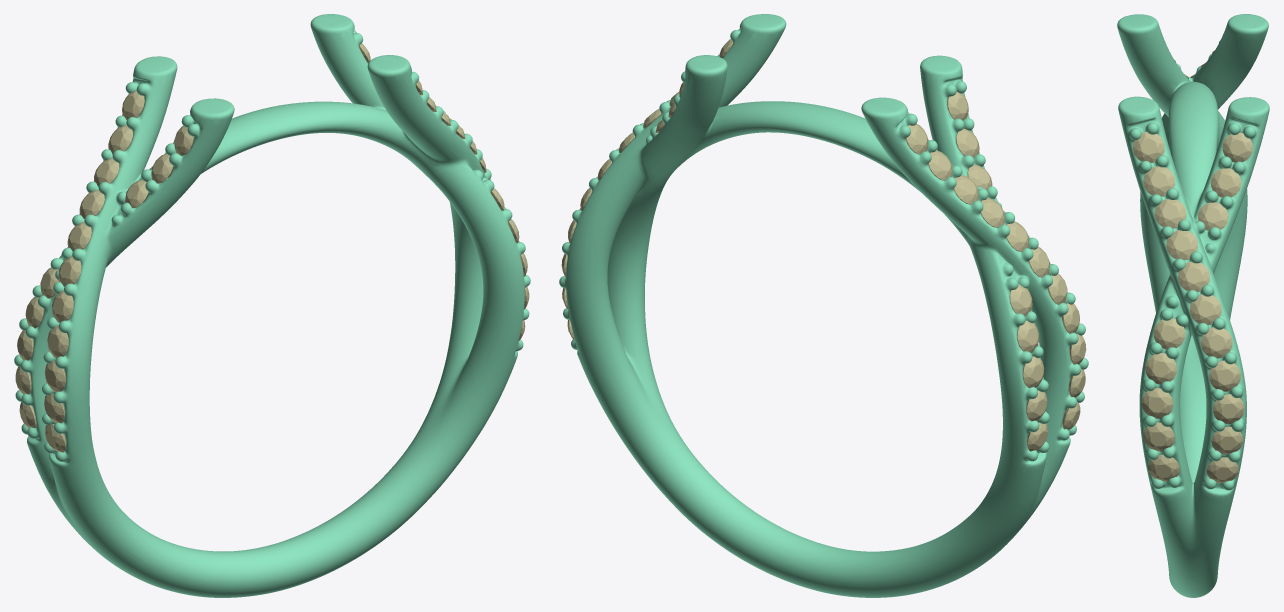
The picture shows the model from 3 angles, left to right: view 1: azimuth 30°, elevation 25°; view 2: azimuth 150°, elevation 25°; view 3: azimuth 270°, elevation 25°; orthographic projection. The views are drawn at different scales.
Visible parts, largest first — view 1: Metal02; view 2: Metal02; view 3: Metal02, Diamond_Gem.003, Diamond_Gem.031, Diamond_Gem.032, Diamond_Gem.008, Diamond_Gem.005, Diamond_Gem.009, Diamond_Gem.033, Diamond_Gem.002, Diamond_Gem.004, Diamond_Gem.006, Diamond_Gem.010 (+8 smaller).
Part boxes in pixels (bbox=[...]): Metal02: bbox=[14, 14, 530, 597]; Metal02: bbox=[559, 14, 1088, 597]; Metal02: bbox=[1117, 14, 1269, 597]; Diamond_Gem.003: bbox=[1200, 327, 1232, 358]; Diamond_Gem.031: bbox=[1145, 353, 1176, 384]; Diamond_Gem.032: bbox=[1153, 318, 1185, 349]; Diamond_Gem.008: bbox=[1133, 132, 1164, 162]; Diamond_Gem.005: bbox=[1178, 261, 1209, 291]; Diamond_Gem.009: bbox=[1143, 166, 1175, 196]; Diamond_Gem.033: bbox=[1141, 388, 1173, 418]; Diamond_Gem.002: bbox=[1209, 360, 1240, 391]; Diamond_Gem.004: bbox=[1190, 294, 1221, 325]; Diamond_Gem.006: bbox=[1166, 230, 1197, 260]; Diamond_Gem.010: bbox=[1154, 199, 1186, 228].
Size of the model in its own units: 21.36 by 22.11 by 5.99.
